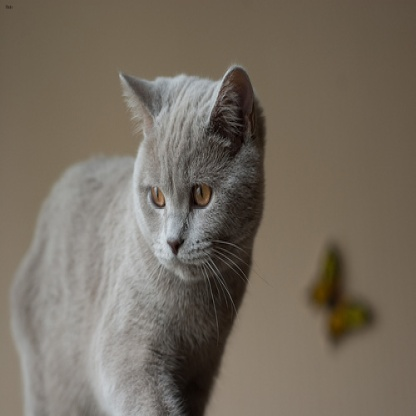british_shorthair: (12, 63, 267, 416)
